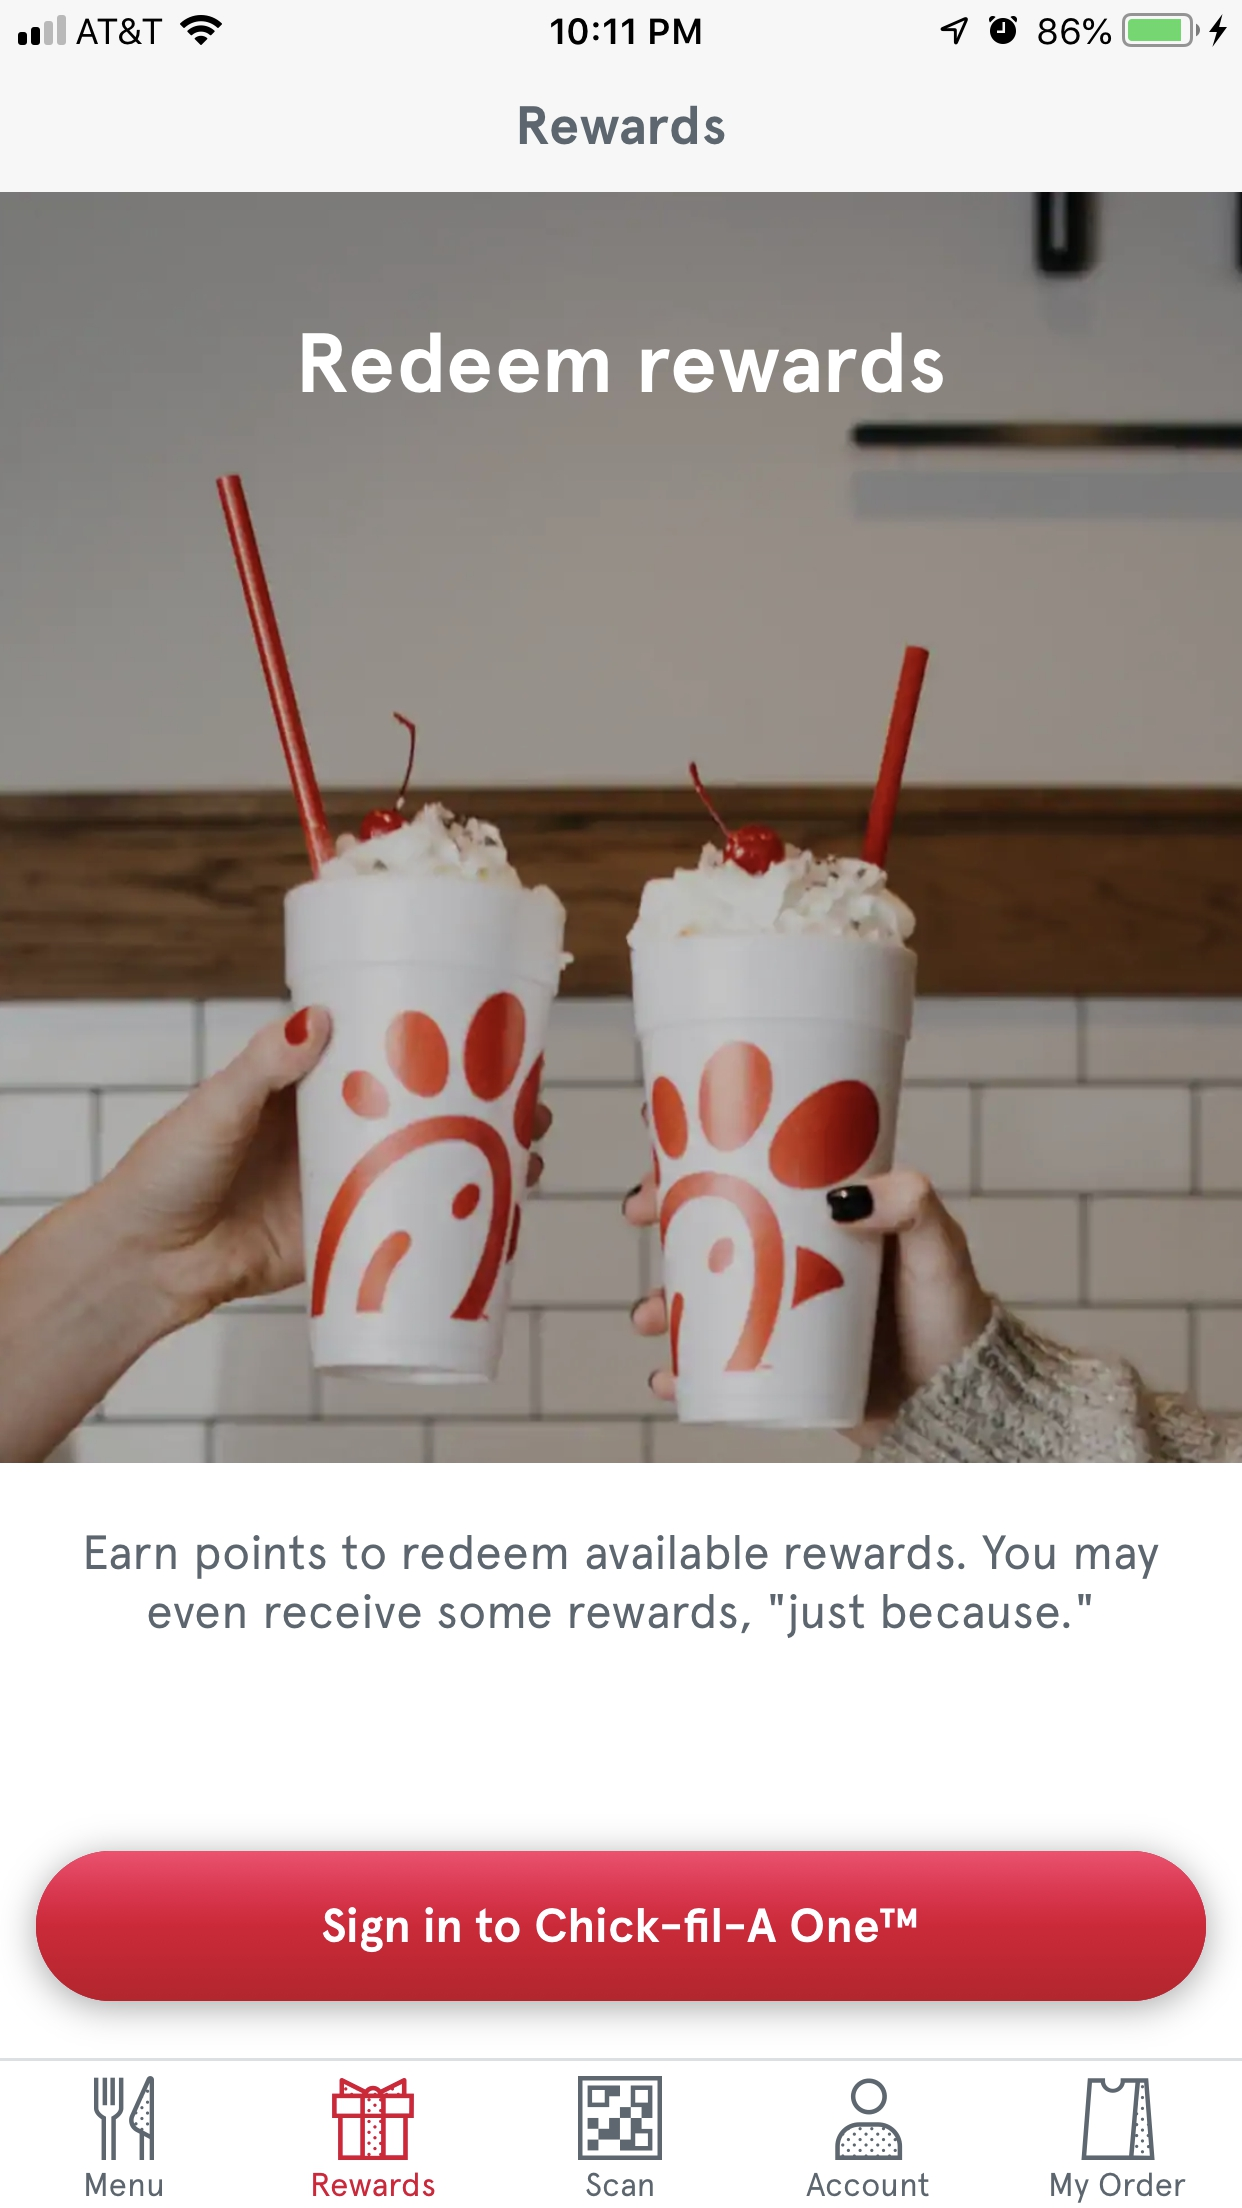Icon: (332, 2078, 416, 2161), (834, 2078, 904, 2161)
Image: (2, 193, 1242, 1463), (576, 2075, 663, 2161), (1081, 2078, 1156, 2161), (94, 2075, 156, 2161)
Text: (86, 1535, 1159, 1639), (300, 331, 943, 394), (519, 105, 725, 146), (1049, 2172, 1187, 2203), (805, 2172, 930, 2197), (312, 2172, 437, 2197), (86, 2172, 164, 2197), (585, 2172, 655, 2197)
TextButton: (36, 1850, 1207, 2002)
UpperTaskBar: (2, 2, 1242, 49)
